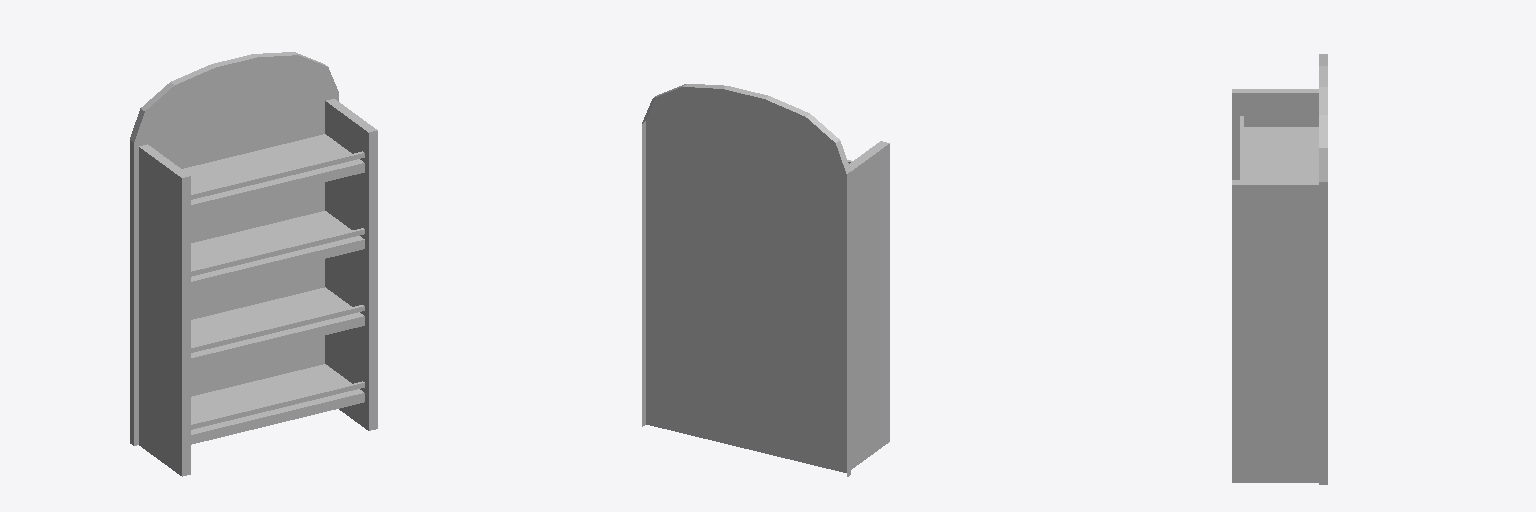
The model's file is stellage.obj.
3 views of the same model, side by side, from view 1: azimuth 30°, elevation 25°; view 2: azimuth 150°, elevation 25°; view 3: azimuth 270°, elevation 25° (orthographic).
Parts seen in each view (by area): view 1: Cube.006_Cube.011, Cube.005_Cube.010, Cube.009_Cube.012; view 2: Cube.005_Cube.010, Cube.009_Cube.012; view 3: Cube.009_Cube.012, Cube.006_Cube.011, Cube.005_Cube.010.
Part boxes in pixels (bbox=[...]): Cube.006_Cube.011: bbox=[182, 134, 364, 444]; Cube.005_Cube.010: bbox=[130, 52, 338, 445]; Cube.009_Cube.012: bbox=[139, 99, 377, 476]; Cube.005_Cube.010: bbox=[642, 84, 850, 476]; Cube.009_Cube.012: bbox=[849, 141, 889, 469]; Cube.009_Cube.012: bbox=[1232, 89, 1318, 482]; Cube.006_Cube.011: bbox=[1240, 116, 1318, 179]; Cube.005_Cube.010: bbox=[1319, 54, 1327, 484].
Size of the model in its own units: 0.4398 by 0.7349 by 0.1776.